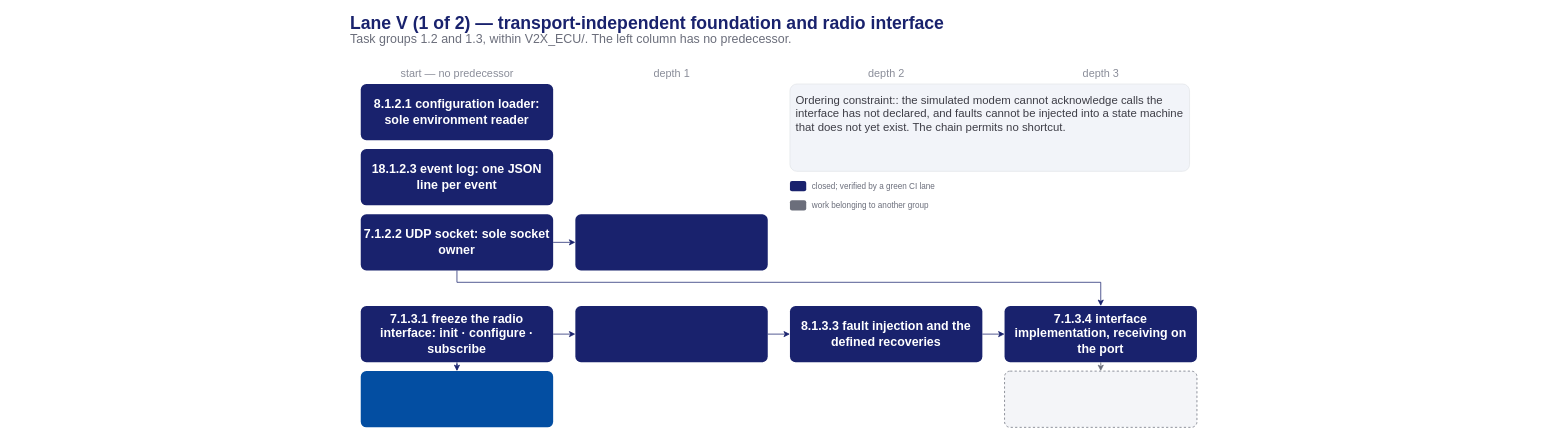
Image size: 1557x440. Some labels were removed from this diagram. Here are the shapes that lost their labels. From the top down, the centre of each, then its label:
At (x=671, y=242): "2.1.2.4 sender to the ADA node: one datagram per message".
At (x=671, y=334): "8.1.3.2 simulated modem: each call acknowledged".
At (x=456, y=399): "7.1.3.6 porting notes for a production modem".
At (x=1100, y=398): "group 1.5 assembly; also consumes 8.1.2.1 and 2.1.2.4".
